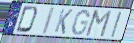D: (14, 5, 40, 34)
G: (71, 9, 91, 36)
I: (40, 5, 57, 36), (110, 11, 123, 39)
K: (53, 8, 74, 35)
M: (84, 9, 113, 39)
